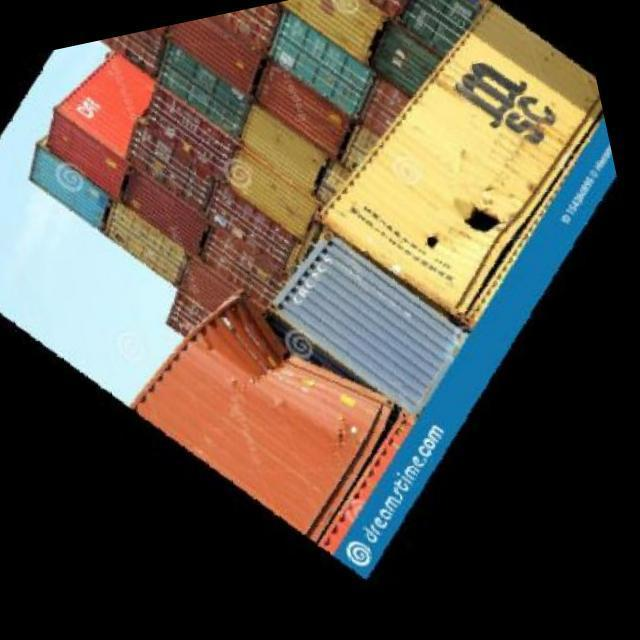hole: (460, 204, 500, 236), (422, 236, 441, 249)
